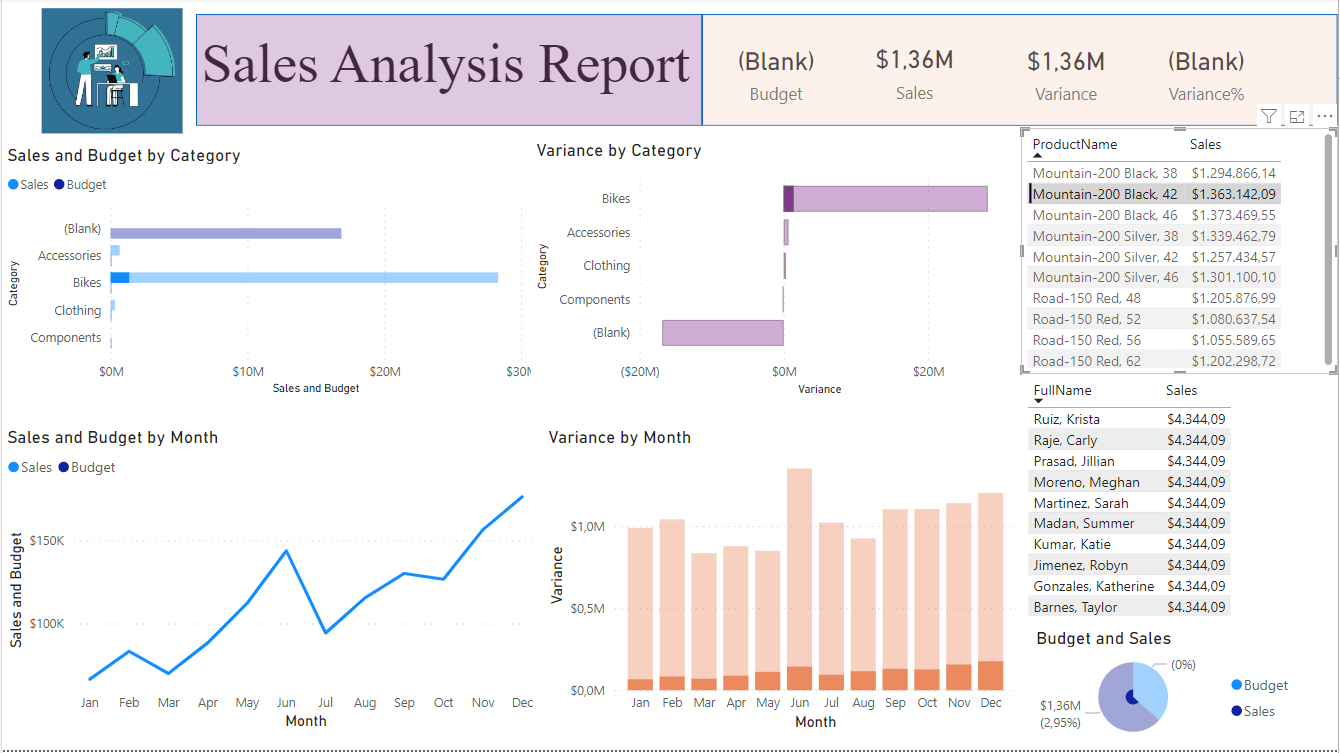

What the dashboard file says about the page in this screenshot:
{"tool":"powerbi","page":{"name":"Page 2","canvas":[1280,720],"ordinal":1},"visuals":[{"type":"textbox","box":[185.9,27,506.6,84.9],"z":0},{"type":"image","box":[0,4.9,211.5,129.9],"z":1000},{"type":"card","fields":{"Values":["Budget.Budget"]},"box":[671.1,29.6,142.1,79.9],"z":2000},{"type":"card","fields":{"Values":["Budget.Sales"]},"box":[792.5,29.6,163.8,78],"z":3000},{"type":"card","fields":{"Values":["Budget.Variance"]},"box":[935.6,27.6,166.8,83.9],"z":4000},{"type":"card","fields":{"Values":["Budget.Variance%"]},"box":[1061.9,34.5,184.5,71.1],"z":5000},{"type":"shape","box":[671,15.7,609,107.2],"z":6000},{"type":"shape","box":[185.9,15.7,485,107.2],"z":7000},{"type":"clusteredBarChart","fields":{"Y":["Budget.Sales","Budget.Budget"],"Category":["Product.Category","Product.SubCategory"]},"box":[0,139.7,518.5,245],"z":8000},{"type":"clusteredBarChart","fields":{"Category":["Product.Category","Product.SubCategory"],"Y":["Budget.Variance"]},"box":[506.7,134.8,470.3,249.9],"z":9000},{"type":"lineChart","fields":{"Y":["Budget.Sales","Budget.Budget"],"Category":["Calendar.Month"]},"box":[0,410.3,518.5,296.1],"z":9001},{"type":"clusteredColumnChart","fields":{"Category":["Calendar.Month"],"Y":["Budget.Variance"]},"box":[518.5,410.3,458.5,296.1],"z":9002},{"type":"tableEx","fields":{"Values":["Product.ProductName","Budget.Sales"]},"box":[976,125,304,235.1],"z":9003},{"type":"tableEx","fields":{"Values":["Customer.FullName","Budget.Sales"]},"box":[977,360.1,270.6,243],"z":9004},{"type":"pieChart","fields":{"Y":["Budget.Budget","Budget.Sales"]},"box":[985.8,603.1,260.7,115.1],"z":9005}]}

Visuals, with their boxes in screenshot pixels (x1, y1, x2, y2), scaled from the page's 1280x720 canvas onto the 1340x753 screenshot:
textbox: bbox(195, 28, 725, 117)
image: bbox(0, 5, 221, 141)
card - Budget.Budget: bbox(703, 31, 851, 115)
card - Budget.Sales: bbox(830, 31, 1001, 113)
card - Budget.Variance: bbox(979, 29, 1154, 117)
card - Budget.Variance%: bbox(1112, 36, 1305, 110)
shape: bbox(702, 16, 1339, 129)
shape: bbox(195, 16, 702, 129)
clusteredBarChart - Budget.Sales x Budget.Budget: bbox(0, 146, 543, 402)
clusteredBarChart - Product.Category x Product.SubCategory: bbox(530, 141, 1023, 402)
lineChart - Budget.Sales x Budget.Budget: bbox(0, 429, 543, 739)
clusteredColumnChart - Calendar.Month x Budget.Variance: bbox(543, 429, 1023, 739)
tableEx - Product.ProductName x Budget.Sales: bbox(1022, 131, 1339, 377)
tableEx - Customer.FullName x Budget.Sales: bbox(1023, 377, 1306, 631)
pieChart - Budget.Budget x Budget.Sales: bbox(1032, 631, 1305, 751)
